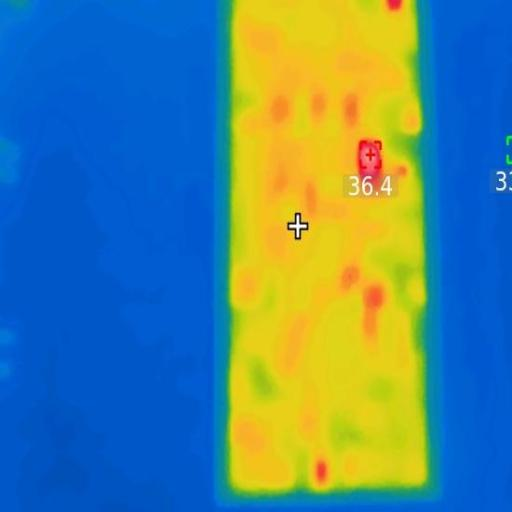hotspot: (356, 140, 385, 184), (314, 458, 329, 481)
